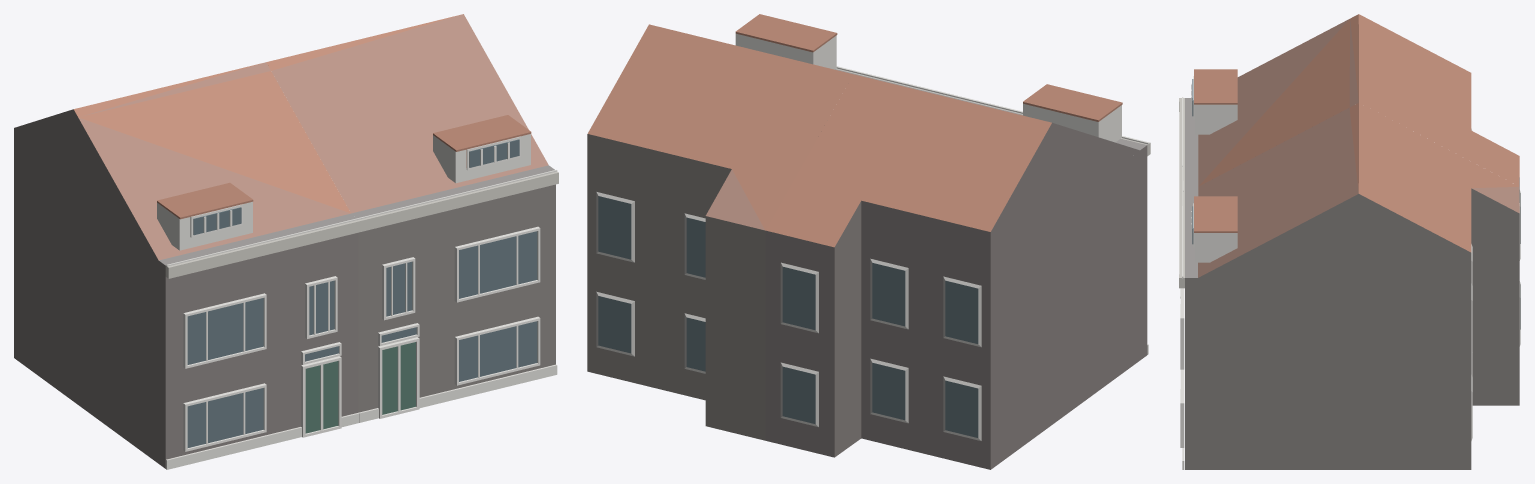
The model's file is chunk-face-kalkoen-8-16-r2.lod2.glb.
The picture shows the model from 3 angles, left to right: view 1: azimuth 30°, elevation 25°; view 2: azimuth 150°, elevation 25°; view 3: azimuth 270°, elevation 25°; orthographic projection. The views are drawn at different scales.
Parts seen in each view (by area): view 1: lod2; view 2: lod2; view 3: lod2.
Part boxes in pixels (x1,y1,x2,y2): lod2: [14, 14, 558, 469]; lod2: [587, 14, 1150, 469]; lod2: [1179, 14, 1520, 469].
Bounding box in the file's own units: 12.89 × 9.23 × 10.35.
